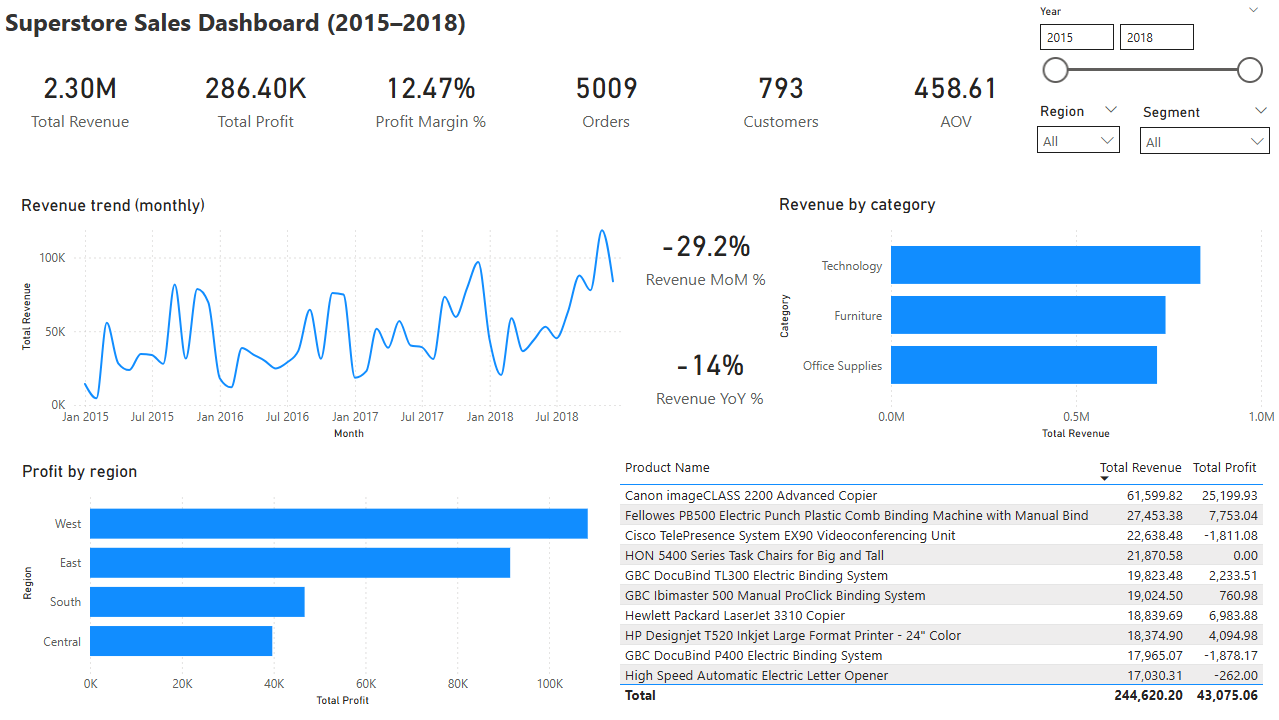

Layout of this report page (visuals, bound fields, positions):
{"tool":"powerbi","page":{"name":"Overview","canvas":[1280,720],"ordinal":0},"visuals":[{"type":"card","fields":{"Values":["superstore.Total Revenue"]},"box":[0.2,36.3,160,119.7],"z":0},{"type":"card","fields":{"Values":["superstore.Total Profit"]},"box":[175.7,36.3,159.6,119.7],"z":1000},{"type":"card","fields":{"Values":["superstore.Profit Margin %"]},"box":[350.8,36.3,159.6,119.7],"z":2000},{"type":"card","fields":{"Values":["superstore.Orders"]},"box":[525.9,36.3,159.6,119.7],"z":3000},{"type":"card","fields":{"Values":["superstore.Customers"]},"box":[701.1,36.3,159.6,119.7],"z":4000},{"type":"card","fields":{"Values":["superstore.AOV"]},"box":[876.2,36.3,159.6,119.7],"z":5000},{"type":"lineChart","title":"Revenue trend (monthly)","fields":{"Category":["dim_date.MonthStart"],"Y":["superstore.Total Revenue"]},"box":[16.3,195,623.9,249.4],"z":6000},{"type":"clusteredBarChart","title":"Revenue by category","fields":{"Y":["superstore.Total Revenue"],"Category":["superstore.Category"]},"box":[774.4,194.1,506,250.3],"z":7000},{"type":"clusteredBarChart","title":"Profit by region","fields":{"Y":["superstore.Total Profit"],"Category":["superstore.Region"]},"box":[17,461,567,250],"z":8000},{"type":"tableEx","fields":{"Values":["superstore.Product Name","superstore.Total Revenue","superstore.Total Profit"]},"box":[584,452,696,266],"z":9000},{"type":"card","fields":{"Values":["dim_date.Revenue MoM % (Latest)"]},"box":[640.2,195,130.6,118.8],"z":10000},{"type":"card","fields":{"Values":["dim_date.Revenue YoY % (Latest)"]},"box":[644.7,313.8,129.7,118.8],"z":11000},{"type":"slicer","fields":{"Values":["dim_date.Year"]},"box":[1027,0,244,99],"z":12000},{"type":"slicer","fields":{"Values":["superstore.Region"]},"box":[1016,98,114,96],"z":13000},{"type":"slicer","fields":{"Values":["superstore.Segment"]},"box":[1130,99,150,96],"z":14000},{"type":"textbox","box":[0,0,955.8,44.4],"z":15000}]}

Visuals, with their boxes in screenshot pixels (x1, y1, x2, y2), scaled from the page's 1280x720 canvas onto the 1279x720 screenshot:
card - superstore.Total Revenue: 0,36,160,156
card - superstore.Total Profit: 176,36,335,156
card - superstore.Profit Margin %: 351,36,510,156
card - superstore.Orders: 525,36,685,156
card - superstore.Customers: 701,36,860,156
card - superstore.AOV: 876,36,1035,156
"Revenue trend (monthly)" lineChart: 16,195,640,444
"Revenue by category" clusteredBarChart: 774,194,1278,444
"Profit by region" clusteredBarChart: 17,461,584,711
tableEx - superstore.Product Name x superstore.Total Revenue: 584,452,1278,718
card - dim_date.Revenue MoM % (Latest): 640,195,770,314
card - dim_date.Revenue YoY % (Latest): 644,314,774,433
slicer - dim_date.Year: 1026,0,1270,99
slicer - superstore.Region: 1015,98,1129,194
slicer - superstore.Segment: 1129,99,1278,195
textbox: 0,0,955,44
